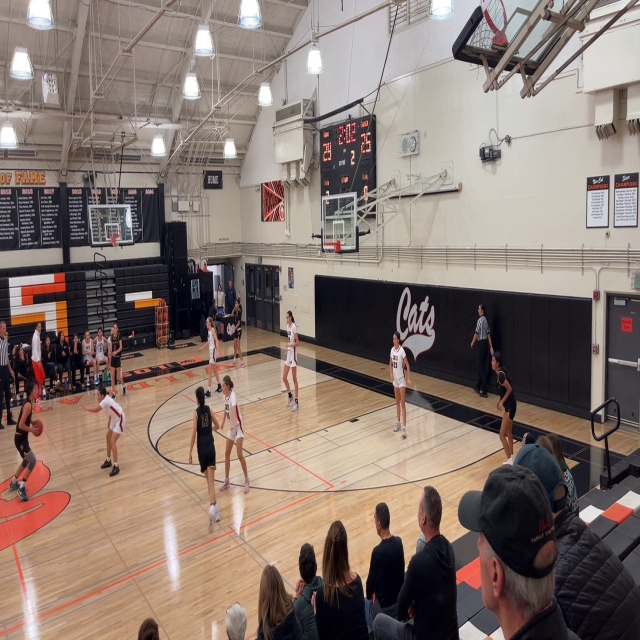Basketball: (30, 419, 43, 437)
